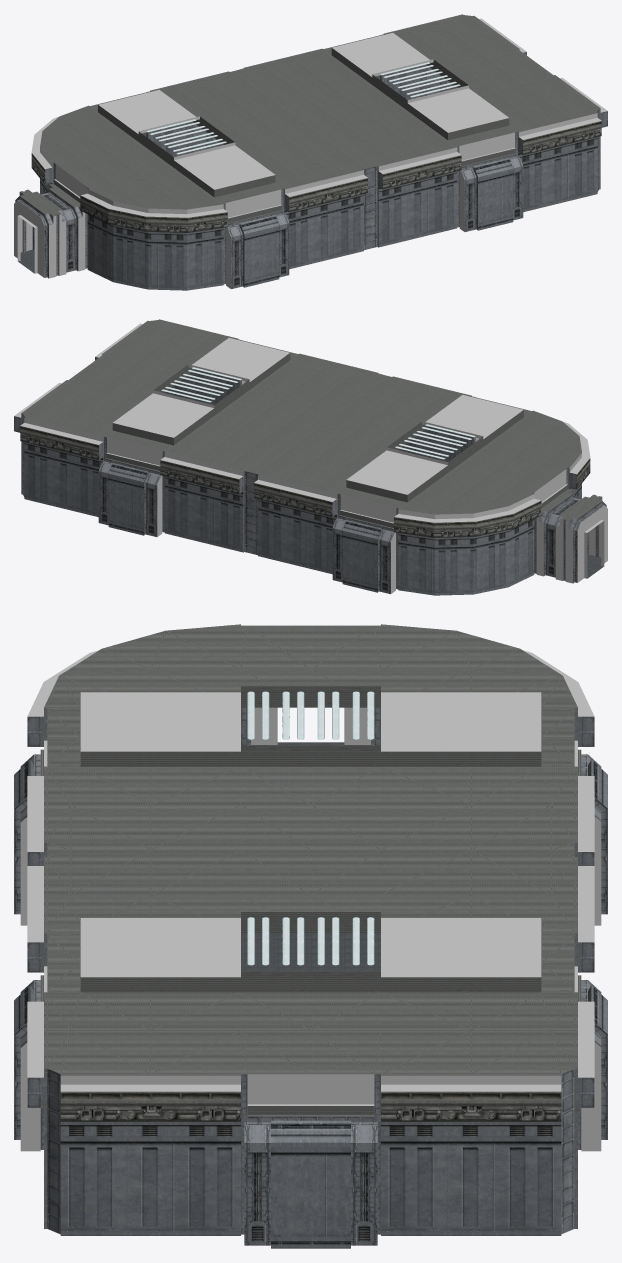
The model's file is poi_all_impl_bunker_small_outpost_s01_r9_security_mesh.fbx.
3 renders of one model, top to bottom at view 1: azimuth 30°, elevation 25°; view 2: azimuth 150°, elevation 25°; view 3: azimuth 270°, elevation 25°, orthographic. The views are drawn at different scales.
Parts seen in each view (by area): view 1: mesh_node; view 2: mesh_node; view 3: mesh_node.
Part boxes in pixels (bbox=[...]): mesh_node: bbox=[14, 14, 607, 290]; mesh_node: bbox=[14, 319, 607, 595]; mesh_node: bbox=[14, 624, 607, 1248].
Size of the model in its own units: 35.9 by 6 by 17.8.
